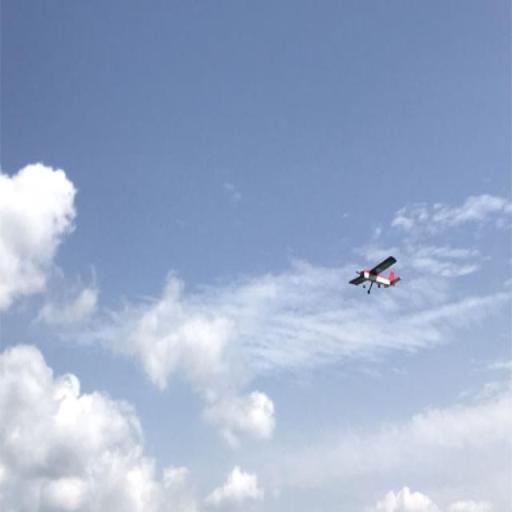uav: (341, 244, 403, 296)
